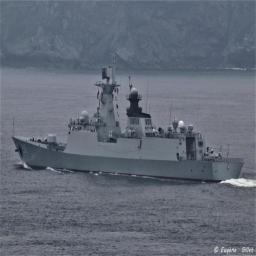Fragata: (13, 59, 245, 183)
